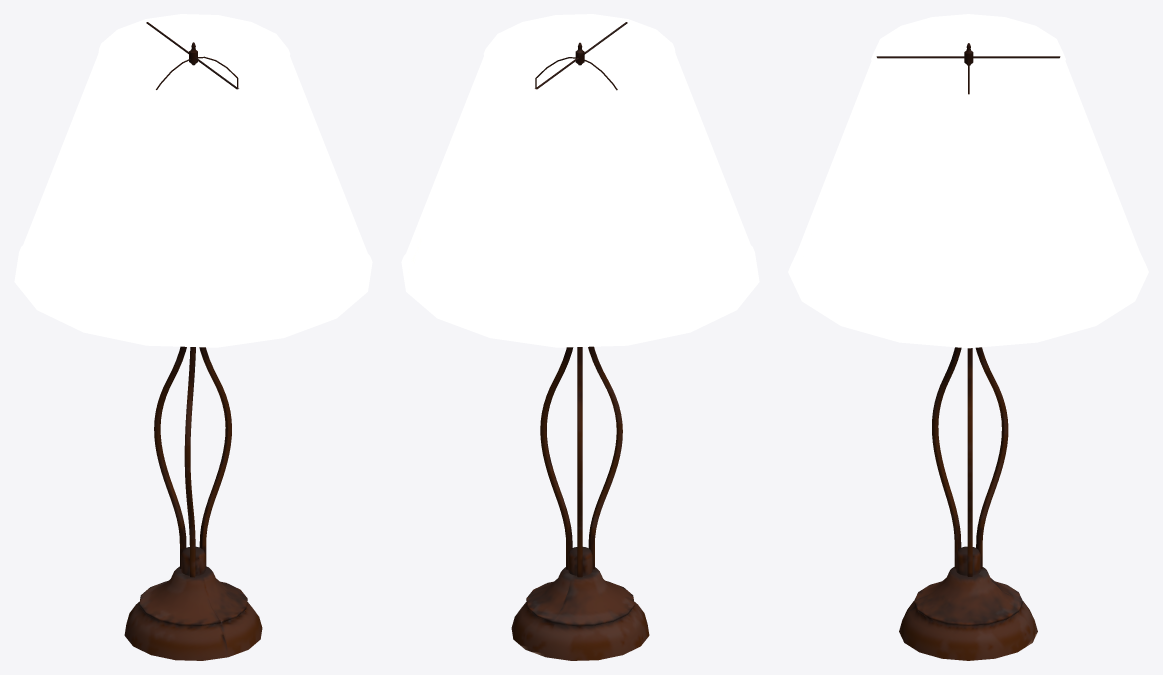
File: light_table_lamp.fbx
3 renders of one model, left to right at view 1: azimuth 30°, elevation 25°; view 2: azimuth 150°, elevation 25°; view 3: azimuth 270°, elevation 25°, orthographic.
Parts seen in each view (by area): view 1: Cylinder.039; view 2: Cylinder.039; view 3: Cylinder.039.
Part boxes in pixels (x1,y1,x2,y2): Cylinder.039: (14,14,372,660); Cylinder.039: (401,14,759,660); Cylinder.039: (788,14,1148,660).
Bounding box in the file's own units: 33.01 × 59.38 × 33.01.
